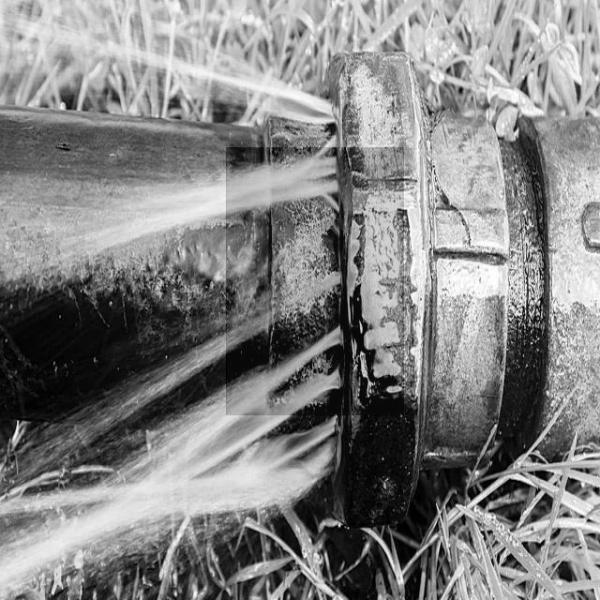water: (227, 147, 405, 415)
